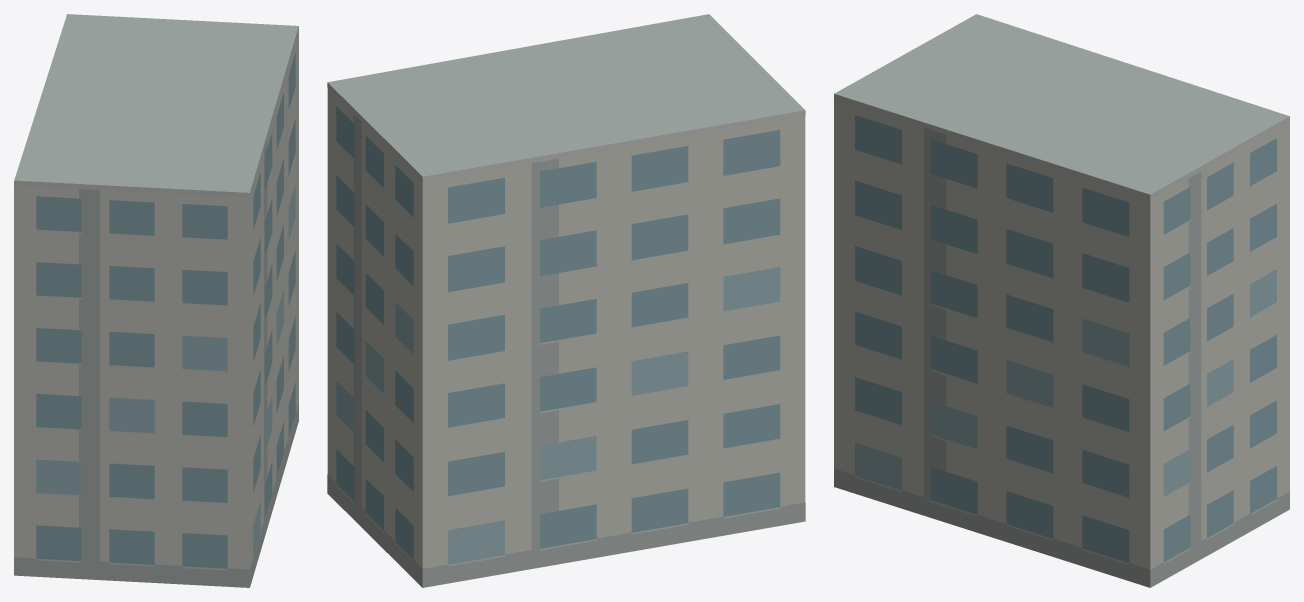
The model's file is survey-upis-32999918.glb.
3 renders of one model, left to right at view 1: azimuth 30°, elevation 25°; view 2: azimuth 150°, elevation 25°; view 3: azimuth 270°, elevation 25°, orthographic. The views are drawn at different scales.
Visible parts, largest first — view 1: survey-upis-32999918.tmp; view 2: survey-upis-32999918.tmp; view 3: survey-upis-32999918.tmp.
Boxes of the visible parts, x1,y1,x2,y2 form: survey-upis-32999918.tmp: [14, 14, 298, 587]; survey-upis-32999918.tmp: [327, 14, 805, 587]; survey-upis-32999918.tmp: [834, 14, 1289, 587].
Size of the model in its own units: 18.24 by 18.5 by 19.44.
